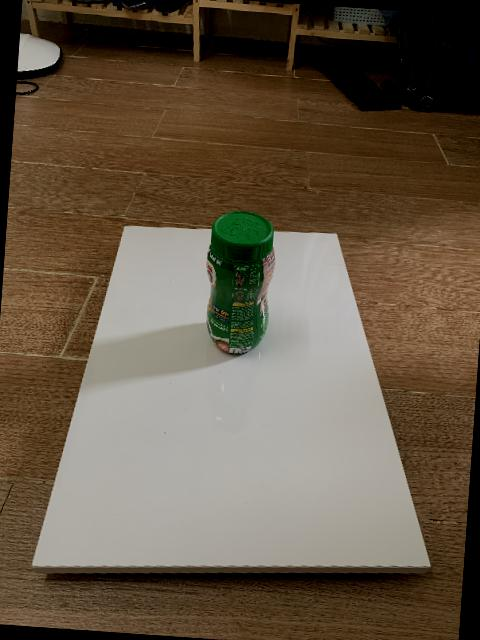milo: (205, 210, 275, 357)
